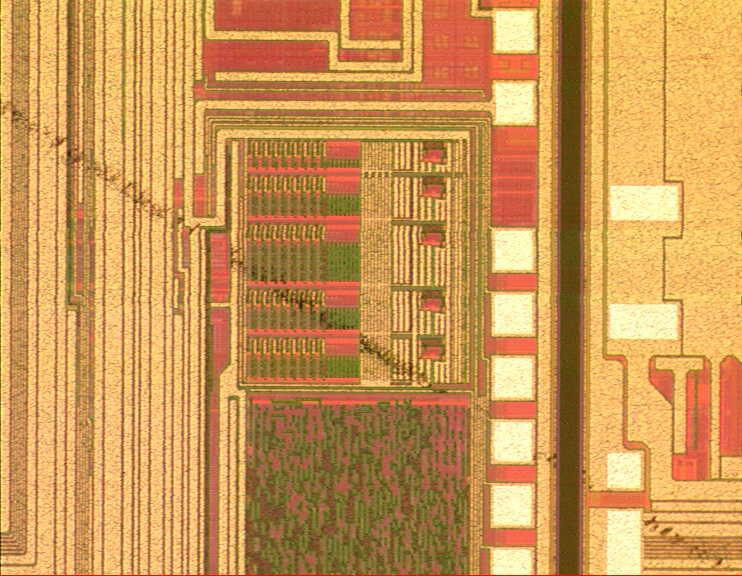SCRATCH: (1, 98, 738, 575)
